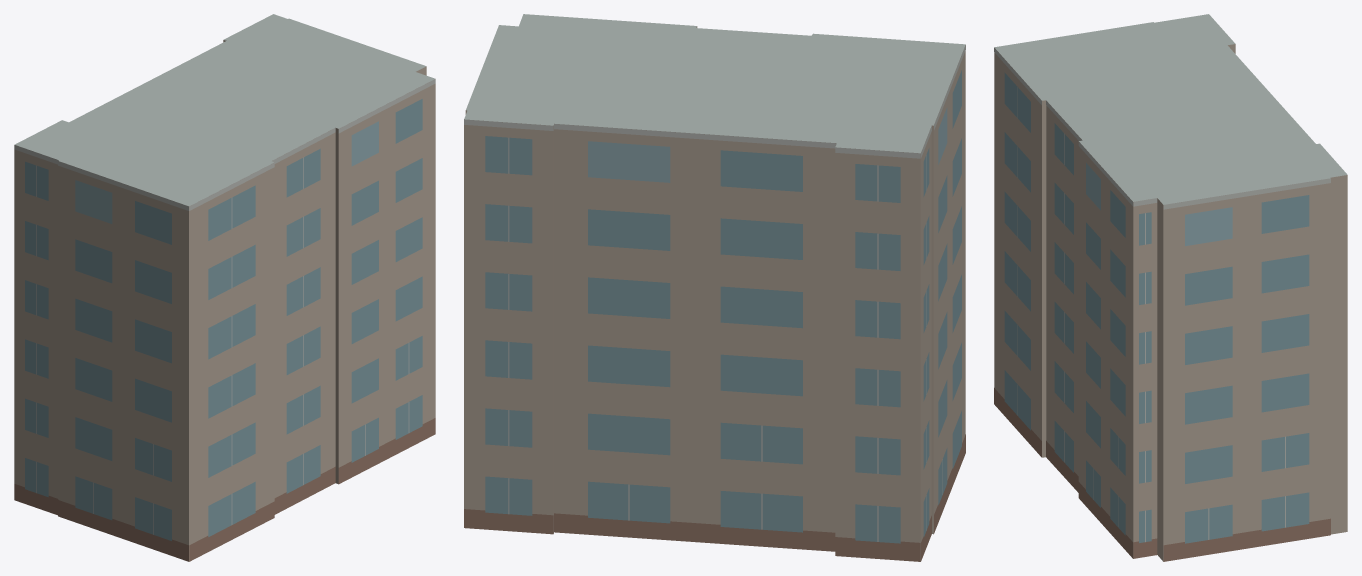
Rendered from survey-upis-32981655.glb.
The picture shows the model from 3 angles, left to right: view 1: azimuth 30°, elevation 25°; view 2: azimuth 150°, elevation 25°; view 3: azimuth 270°, elevation 25°; orthographic projection. The views are drawn at different scales.
Parts seen in each view (by area): view 1: survey-upis-32981655.tmp; view 2: survey-upis-32981655.tmp; view 3: survey-upis-32981655.tmp.
Boxes of the visible parts, x1=… form: survey-upis-32981655.tmp: x1=14, y1=14, x2=435, y2=561; survey-upis-32981655.tmp: x1=464, y1=14, x2=965, y2=561; survey-upis-32981655.tmp: x1=994, y1=14, x2=1347, y2=561.
Size of the model in its own units: 21 by 18.3 by 16.44.
